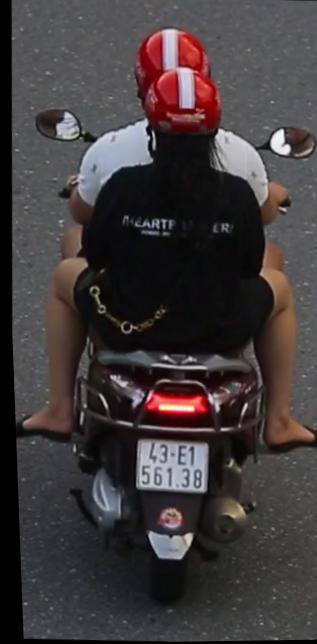LP: (127, 437, 211, 503)
helmet: (135, 65, 229, 184), (128, 20, 219, 91)
